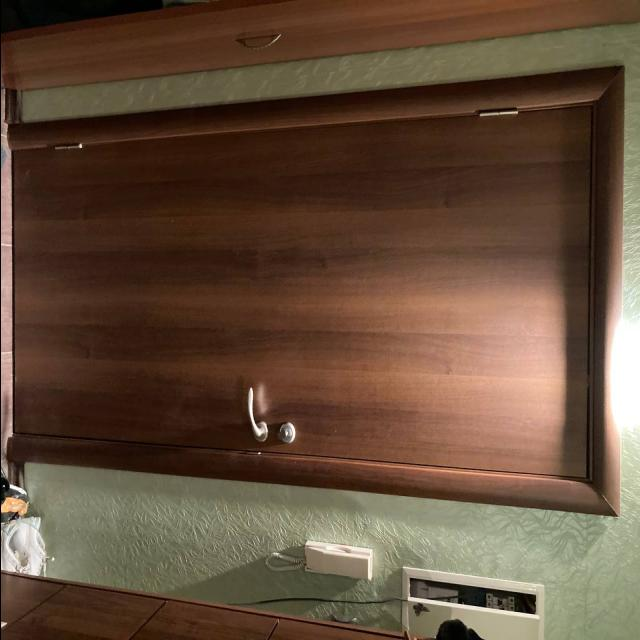close: (18, 80, 610, 483)
